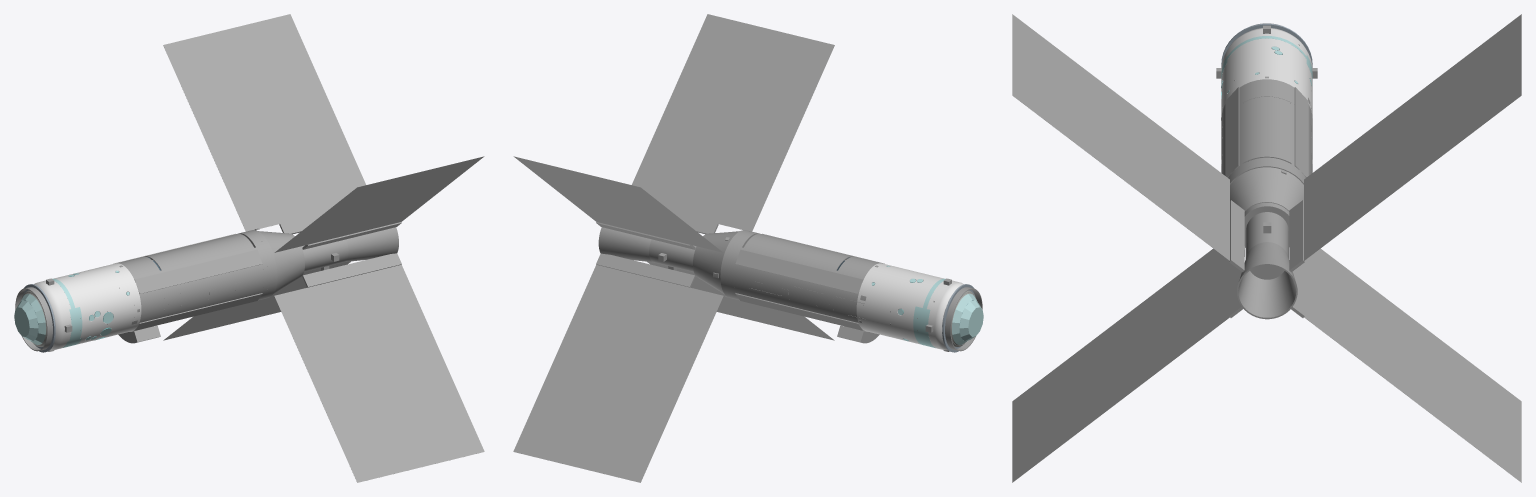
Rendered from wayfarer_crown_parts_88ce19fc.glb.
The picture shows the model from 3 angles, left to right: view 1: azimuth 30°, elevation 25°; view 2: azimuth 150°, elevation 25°; view 3: azimuth 270°, elevation 25°; orthographic projection. The views are drawn at different scales.
Visible parts, largest first — view 1: dry:hotfin_220, dry:hotfin_40, dry:hotfin_140, dry:armor, dry:skin_midship, dry:hotfin_320, dry:strake_140, dry:thrust_cone, dry:skin_service, dry:door_port, dry:hotfin_root_220, dry:nozzle (+4 smaller); view 2: dry:hotfin_320, dry:hotfin_140, dry:hotfin_40, dry:armor, dry:skin_midship, dry:hotfin_220, dry:strake_40, dry:skin_service, dry:thrust_cone, dry:door_starboard, dry:hotfin_root_320, dry:nozzle (+4 smaller); view 3: dry:hotfin_140, dry:hotfin_40, dry:hotfin_220, dry:hotfin_320, dry:armor, dry:nozzle, dry:thrust_cone, dry:reactor, dry:door_port, dry:door_starboard, dry:skin_service, dry:strake_40 (+6 smaller).
Part boxes in pixels (x1,y1,x2,y2): dry:hotfin_220: [274, 264, 484, 482]; dry:hotfin_40: [163, 14, 365, 231]; dry:hotfin_140: [274, 156, 484, 252]; dry:armor: [26, 263, 141, 350]; dry:skin_midship: [160, 247, 263, 316]; dry:hotfin_320: [163, 261, 350, 340]; dry:strake_140: [134, 249, 262, 293]; dry:thrust_cone: [258, 231, 304, 293]; dry:skin_service: [117, 256, 168, 330]; dry:door_port: [152, 236, 253, 270]; dry:hotfin_root_220: [302, 253, 401, 287]; dry:nozzle: [345, 227, 398, 261]; dry:hotfin_320: [513, 264, 723, 482]; dry:hotfin_140: [632, 14, 834, 231]; dry:hotfin_40: [513, 156, 723, 252]; dry:armor: [856, 263, 971, 350]; dry:skin_midship: [734, 247, 837, 316]; dry:hotfin_220: [647, 261, 834, 340]; dry:strake_40: [735, 249, 863, 293]; dry:skin_service: [829, 256, 880, 330]; dry:thrust_cone: [693, 231, 739, 293]; dry:door_starboard: [744, 236, 845, 270]; dry:hotfin_root_320: [596, 253, 695, 287]; dry:nozzle: [598, 227, 652, 262]; dry:hotfin_140: [1012, 14, 1229, 260]; dry:hotfin_40: [1304, 14, 1521, 260]; dry:hotfin_220: [1012, 248, 1229, 482]; dry:hotfin_320: [1304, 248, 1521, 482]; dry:armor: [1221, 28, 1312, 117]; dry:nozzle: [1237, 242, 1297, 319]; dry:thrust_cone: [1230, 167, 1303, 247]; dry:reactor: [1245, 212, 1288, 279]; dry:door_port: [1242, 97, 1266, 163]; dry:door_starboard: [1267, 97, 1291, 163]; dry:skin_service: [1221, 79, 1312, 135]; dry:strake_40: [1294, 87, 1308, 177].
Size of the model in its own units: 54.5 by 42.11 by 50.18.
